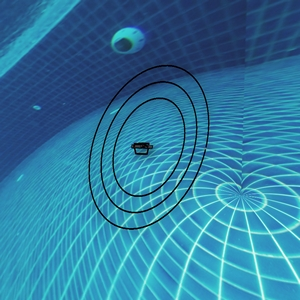circle: (85, 58, 216, 239)
submarine: (131, 142, 151, 155)
